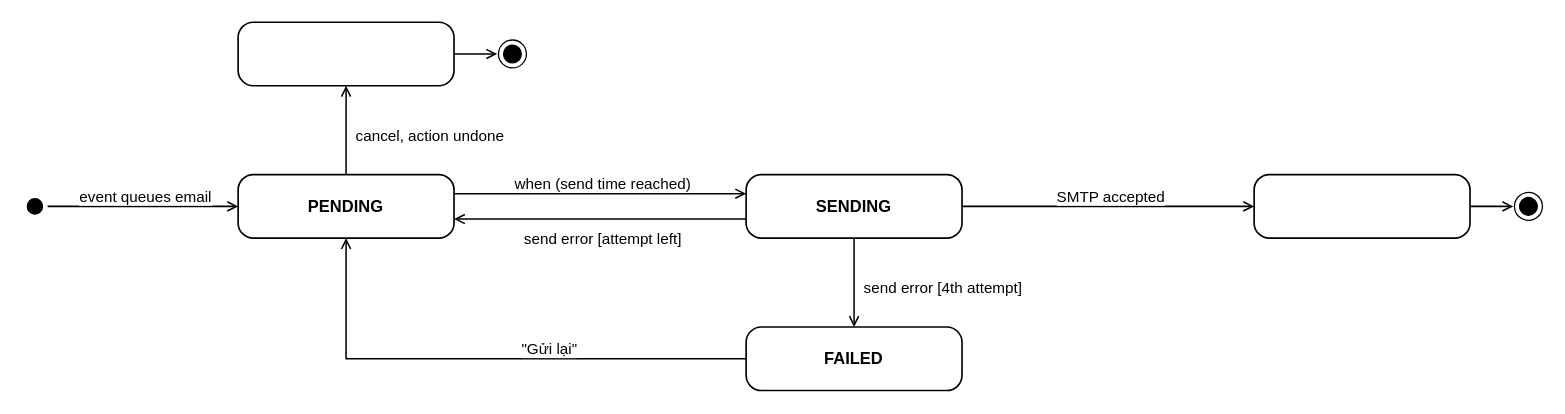
Image size: 1565x414. Some labels were removed from this diagram. Each missing label, with the centre of its shape:
CANCELLED: the point at 345,53
SENT: the point at 1361,205
